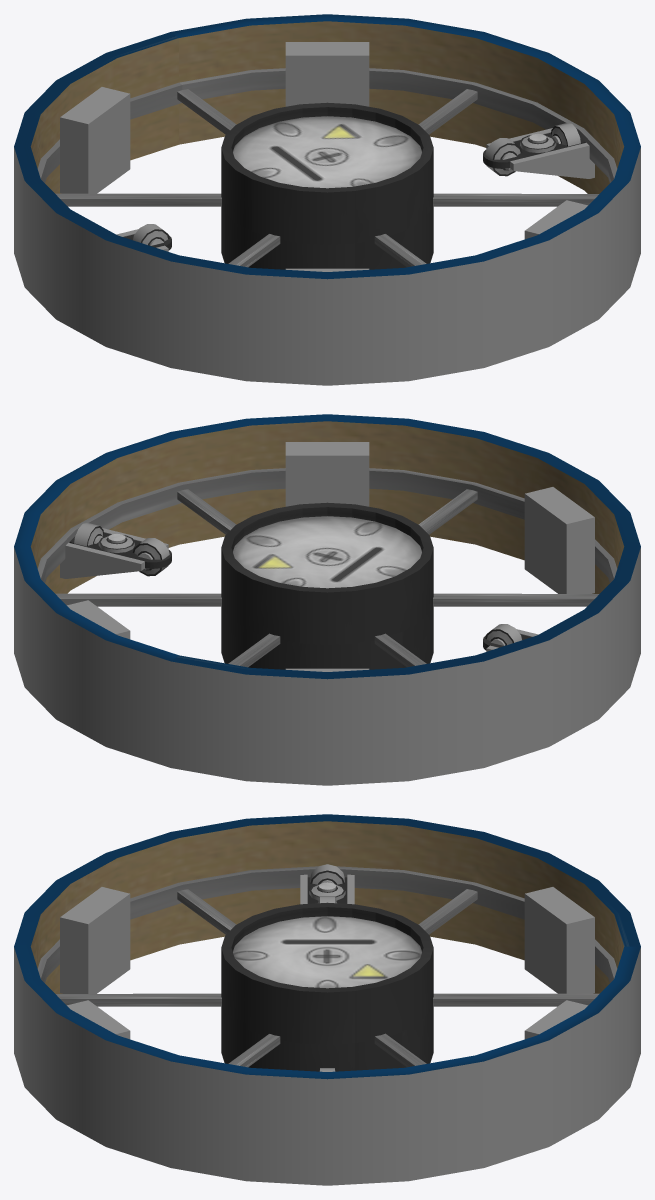
File: TitanInstrumentUnit.FBX
3 renders of one model, top to bottom at view 1: azimuth 30°, elevation 25°; view 2: azimuth 150°, elevation 25°; view 3: azimuth 270°, elevation 25°, orthographic.
Parts seen in each view (by area): view 1: MainBody, Cylinder047, Tube003, AvionicsBox003, Cylinder048, AvionicsBox001, Box109, GyroBrace004, Box108, Box110, AvionicsBox005, Gyro005 (+4 smaller); view 2: MainBody, Cylinder047, Tube003, AvionicsBox007, Cylinder048, AvionicsBox005, Box110, GyroBrace003, Box108, Box109, AvionicsBox001, Gyro005 (+4 smaller); view 3: MainBody, Cylinder047, Tube003, AvionicsBox003, AvionicsBox007, Cylinder048, Box108, Box110, Box109, AvionicsBox001, AvionicsBox005, Gyro001.
Part boxes in pixels (x1=…): MainBody: x1=14, y1=14, x2=640, y2=385; Cylinder047: x1=221, y1=102, x2=433, y2=244; Tube003: x1=37, y1=68, x2=617, y2=182; AvionicsBox003: x1=60, y1=87, x2=130, y2=193; Cylinder048: x1=221, y1=203, x2=433, y2=269; AvionicsBox001: x1=285, y1=42, x2=369, y2=106; Box109: x1=55, y1=193, x2=598, y2=206; GyroBrace004: x1=510, y1=142, x2=594, y2=178; Box108: x1=177, y1=89, x2=426, y2=267; Box110: x1=228, y1=89, x2=477, y2=267; AvionicsBox005: x1=524, y1=200, x2=587, y2=239; Gyro005: x1=485, y1=138, x2=522, y2=176; MainBody: x1=14, y1=414, x2=640, y2=785; Cylinder047: x1=221, y1=502, x2=433, y2=644; Tube003: x1=37, y1=468, x2=617, y2=582; AvionicsBox007: x1=524, y1=487, x2=594, y2=593; Cylinder048: x1=221, y1=603, x2=433, y2=669; AvionicsBox005: x1=285, y1=442, x2=369, y2=506; Box110: x1=55, y1=593, x2=598, y2=606; GyroBrace003: x1=60, y1=542, x2=144, y2=578; Box108: x1=228, y1=489, x2=477, y2=667; Box109: x1=177, y1=489, x2=426, y2=667; AvionicsBox001: x1=67, y1=600, x2=130, y2=639; Gyro005: x1=132, y1=538, x2=169, y2=576; MainBody: x1=14, y1=814, x2=640, y2=1185; Cylinder047: x1=221, y1=902, x2=433, y2=1044; Tube003: x1=37, y1=866, x2=617, y2=982; AvionicsBox003: x1=524, y1=887, x2=594, y2=993; AvionicsBox007: x1=60, y1=887, x2=130, y2=993; Cylinder048: x1=221, y1=1003, x2=433, y2=1071; Box108: x1=56, y1=993, x2=599, y2=1006; Box110: x1=177, y1=889, x2=426, y2=1067; Box109: x1=228, y1=889, x2=477, y2=1067; AvionicsBox001: x1=524, y1=1000, x2=587, y2=1039; AvionicsBox005: x1=67, y1=1000, x2=130, y2=1039; Gyro001: x1=310, y1=864, x2=344, y2=884.
Size of what is drawn, in the model's own units: 1.87 by 0.3517 by 1.87.
1 material, 1 textured.
